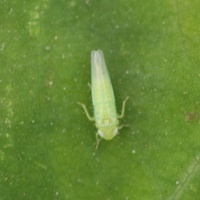insect: (77, 50, 128, 147)
